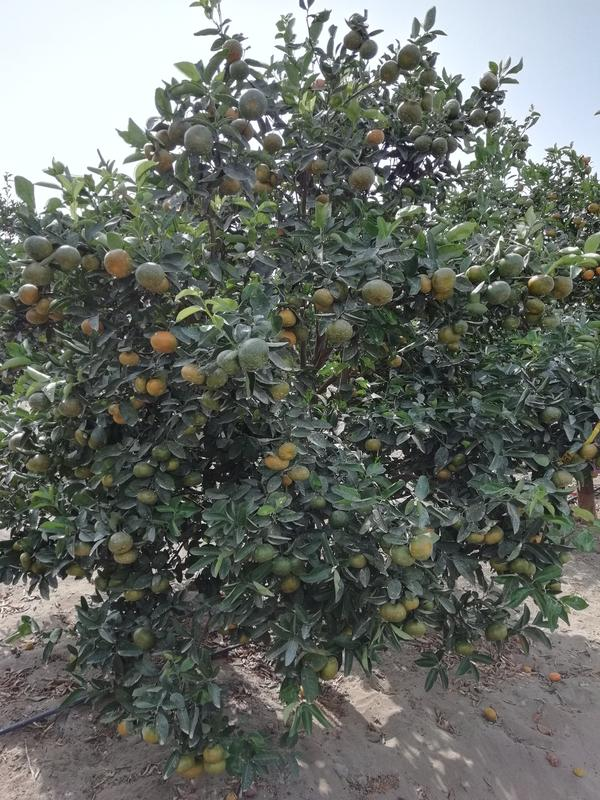mandarina naranja: (104, 249, 133, 279), (151, 332, 177, 354), (18, 283, 39, 306), (147, 377, 167, 396), (118, 351, 140, 365)
mandarina verde: (238, 338, 270, 372), (238, 89, 267, 120), (184, 125, 213, 156), (362, 279, 394, 305), (24, 234, 52, 262), (135, 263, 164, 288), (23, 263, 52, 287), (349, 165, 375, 191), (56, 245, 81, 271), (325, 319, 353, 342), (431, 267, 456, 292), (498, 253, 524, 277), (410, 535, 434, 560), (487, 281, 511, 306), (398, 44, 422, 69), (527, 275, 554, 295), (398, 101, 422, 123), (108, 532, 133, 553), (381, 601, 406, 622), (484, 621, 508, 642), (391, 545, 413, 566), (88, 426, 108, 449), (181, 365, 204, 385), (59, 399, 83, 418), (380, 60, 399, 84), (552, 277, 573, 298), (134, 629, 157, 648), (403, 617, 426, 636), (312, 288, 335, 307), (132, 461, 156, 478), (321, 656, 338, 680), (141, 724, 161, 744), (173, 754, 194, 773), (262, 133, 283, 152), (28, 392, 50, 410), (484, 526, 504, 545), (230, 60, 249, 80), (344, 31, 363, 51), (205, 744, 226, 762), (224, 39, 242, 60), (137, 488, 160, 504), (203, 760, 226, 776), (287, 465, 310, 481), (479, 72, 498, 91), (330, 510, 350, 528), (551, 470, 572, 487), (540, 407, 561, 424), (485, 106, 500, 129), (278, 308, 296, 327), (273, 558, 293, 575), (443, 98, 460, 118), (113, 549, 137, 563), (508, 558, 529, 574), (279, 442, 297, 460), (414, 134, 432, 152), (578, 443, 597, 460), (360, 40, 377, 59), (254, 163, 270, 183), (366, 129, 384, 146), (431, 137, 448, 154), (456, 640, 474, 656), (470, 108, 485, 127), (152, 446, 170, 461), (364, 438, 381, 450), (453, 320, 467, 334)
